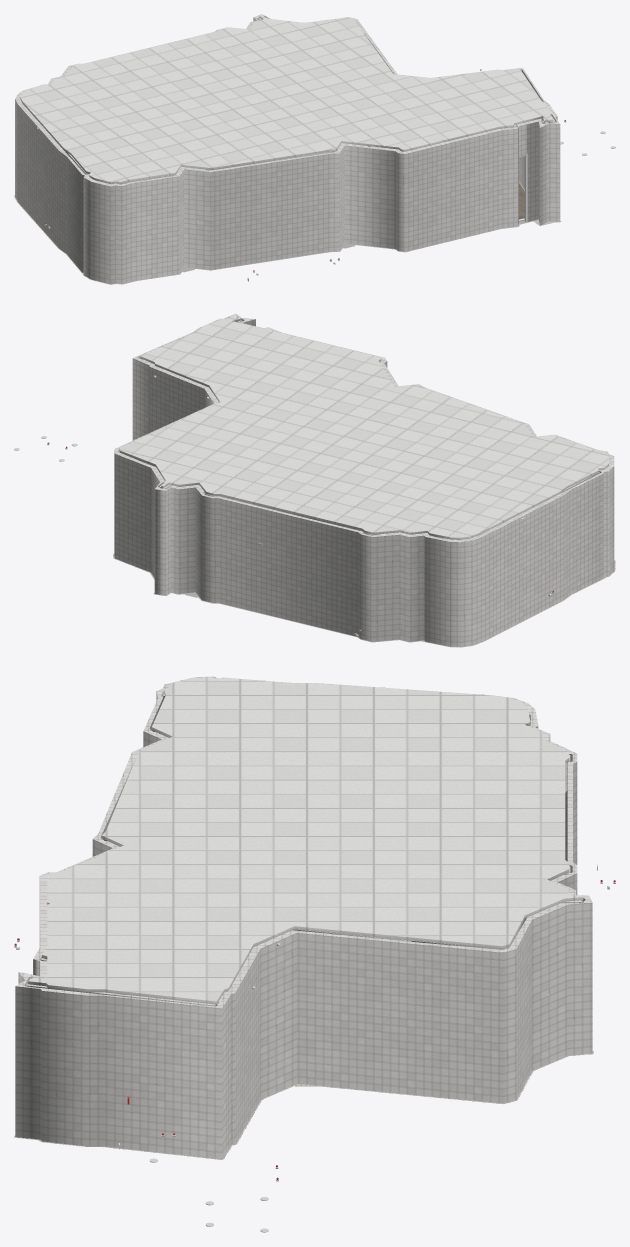
Rendered from cocina_alta_c9f95c628d0e.glb.
3 renders of one model, top to bottom at view 1: azimuth 30°, elevation 25°; view 2: azimuth 150°, elevation 25°; view 3: azimuth 270°, elevation 25°, orthographic. The views are drawn at different scales.
Visible parts, largest first — view 1: Z_cocina_tile_w, Z_cocina_ceil, WALL_FOOTPRINT_LINE; view 2: Z_cocina_ceil, Z_cocina_tile_w, WALL_FOOTPRINT_LINE; view 3: Z_cocina_ceil, Z_cocina_tile_w.
Boxes of the visible parts, x1,y1,x2,y2 form: Z_cocina_tile_w: (15, 14, 560, 284); Z_cocina_ceil: (20, 15, 553, 184); WALL_FOOTPRINT_LINE: (14, 181, 561, 284); Z_cocina_ceil: (119, 315, 608, 539); Z_cocina_tile_w: (114, 313, 614, 646); WALL_FOOTPRINT_LINE: (113, 553, 615, 647); Z_cocina_ceil: (28, 677, 583, 1004); Z_cocina_tile_w: (15, 676, 592, 1159).
Size of the model in its own units: 17.22 by 3.08 by 10.81.
Materials: 35 (4 with a texture image).
